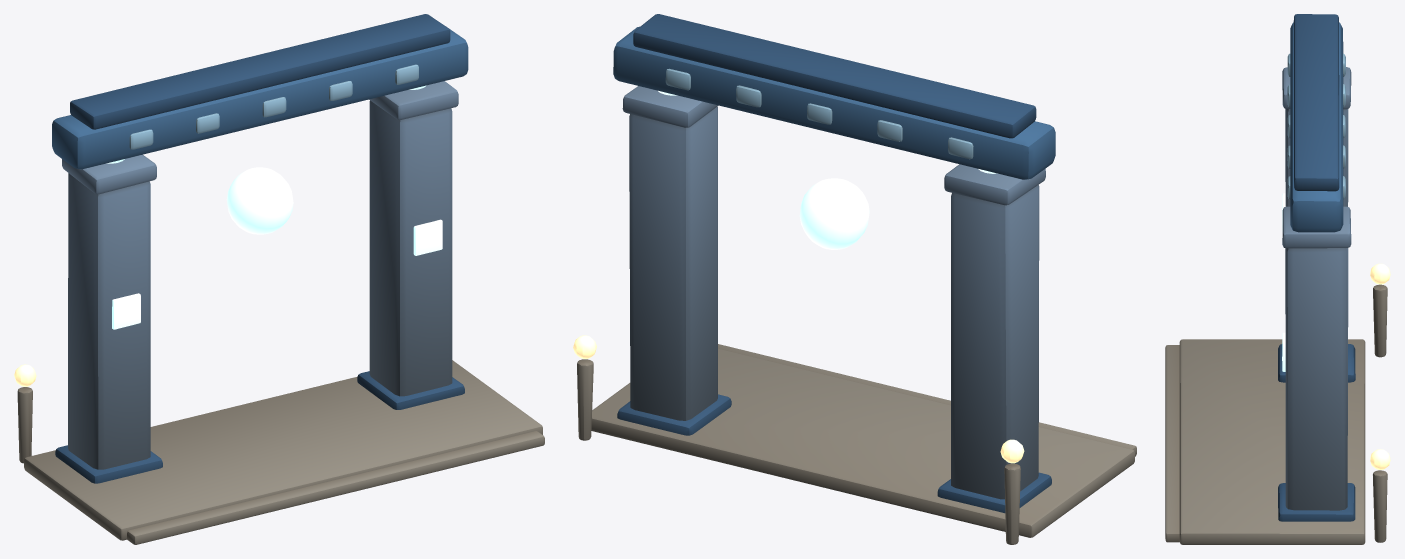
The picture shows the model from 3 angles, left to right: view 1: azimuth 30°, elevation 25°; view 2: azimuth 150°, elevation 25°; view 3: azimuth 270°, elevation 25°; orthographic projection. The views are drawn at different scales.
Visible parts, largest first — view 1: gate_f77fddb6; view 2: gate_f77fddb6; view 3: gate_f77fddb6.
Boxes of the visible parts, left/top/right/bottom form: gate_f77fddb6: left=14, top=14, right=544, bottom=544; gate_f77fddb6: left=573, top=14, right=1136, bottom=544; gate_f77fddb6: left=1165, top=14, right=1390, bottom=544.
Bounding box in the file's own units: 5.23 × 4.41 × 2.54.
